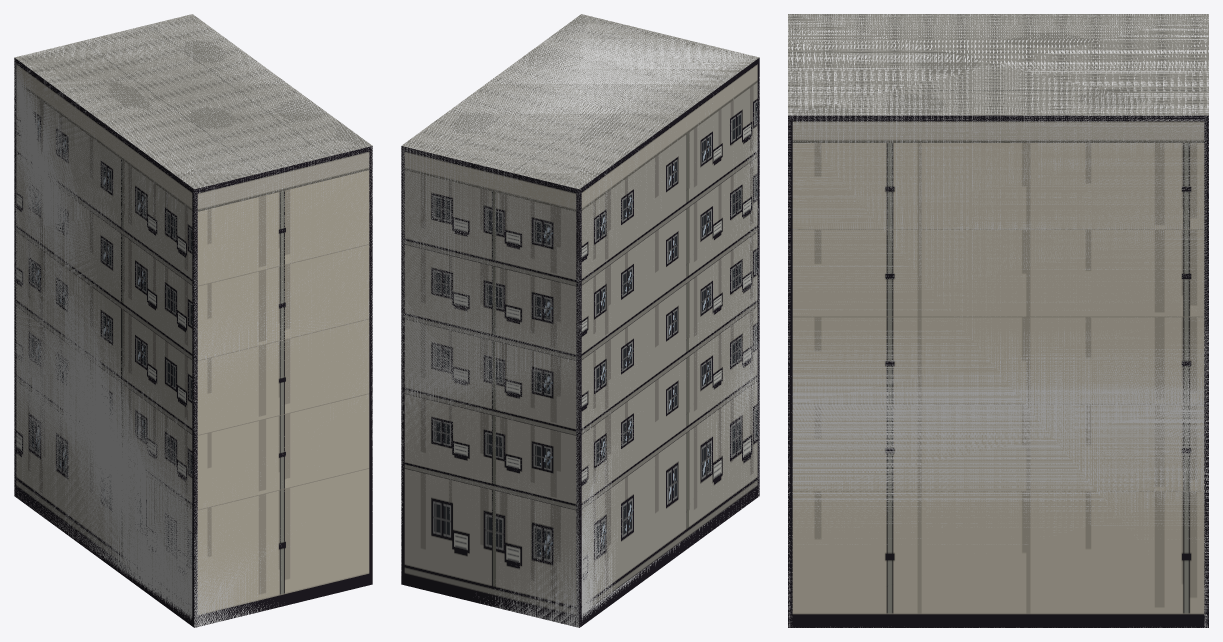
3 views of the same model, side by side, from view 1: azimuth 30°, elevation 25°; view 2: azimuth 150°, elevation 25°; view 3: azimuth 270°, elevation 25° (orthographic). The views are drawn at different scales.
Parts seen in each view (by area): view 1: 19D-E15, COL_19D-E15_0; view 2: 19D-E15, COL_19D-E15_0; view 3: 19D-E15, COL_19D-E15_0.
Boxes of the visible parts, x1,y1,x2,y2 form: 19D-E15: [14, 14, 372, 627]; COL_19D-E15_0: [14, 14, 372, 627]; 19D-E15: [401, 14, 759, 627]; COL_19D-E15_0: [401, 14, 759, 627]; 19D-E15: [788, 14, 1208, 627]; COL_19D-E15_0: [788, 14, 1208, 627].
Bounding box in the file's own units: 8 × 18.8 × 14.
Materials: 1 (1 with a texture image).
